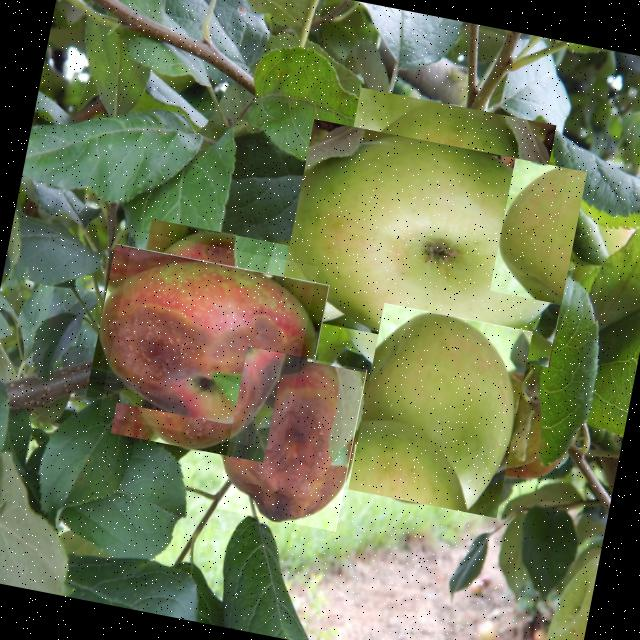Fresh Apple: (291, 103, 572, 384), (347, 303, 533, 519)
Rotten Apple: (97, 231, 318, 452), (215, 347, 367, 532)
